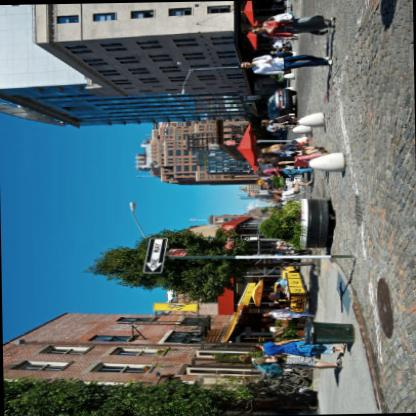manholes: (371, 272, 408, 340), (344, 191, 368, 228)
